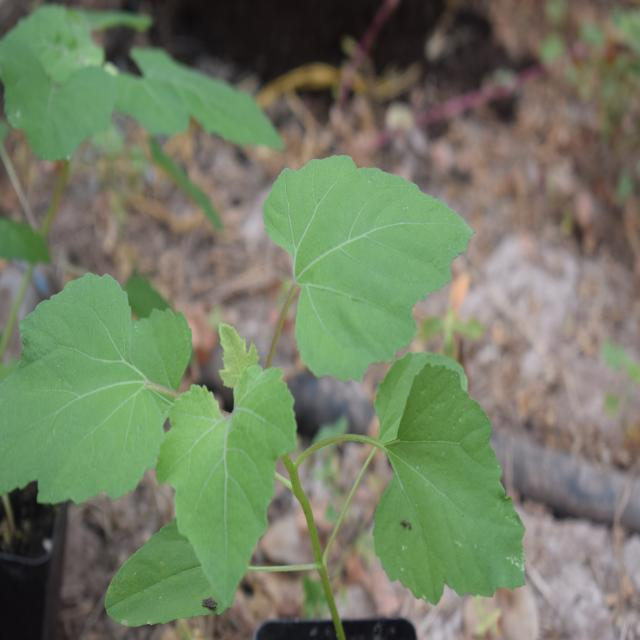cocklebur: (22, 158, 535, 595)
